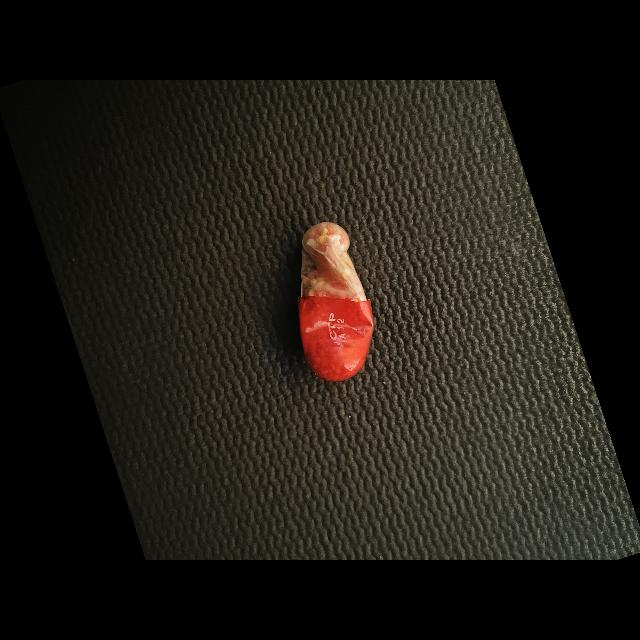Defective Capsule: (299, 222, 373, 381)
